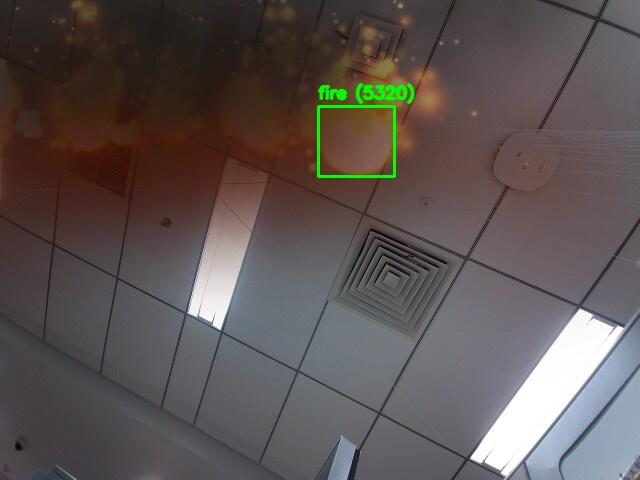fire: (318, 106, 394, 176)
